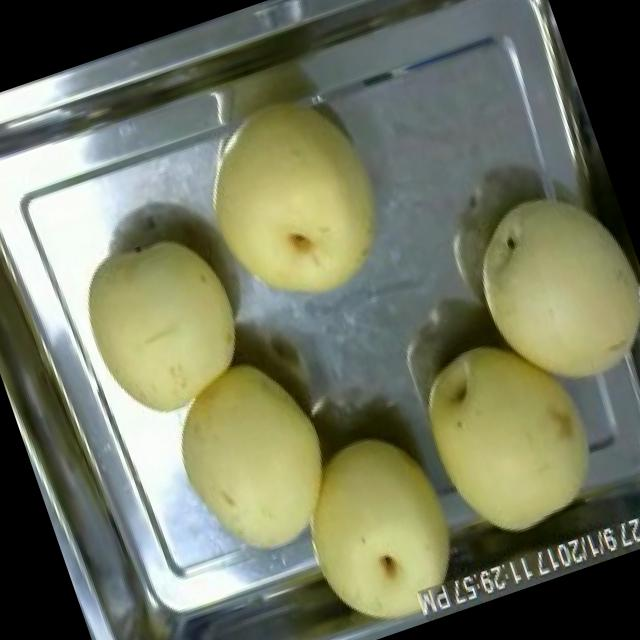Fruit: (384, 302, 637, 572), (174, 74, 418, 334), (269, 406, 492, 640), (440, 164, 640, 423), (148, 336, 360, 580), (54, 210, 272, 436)
